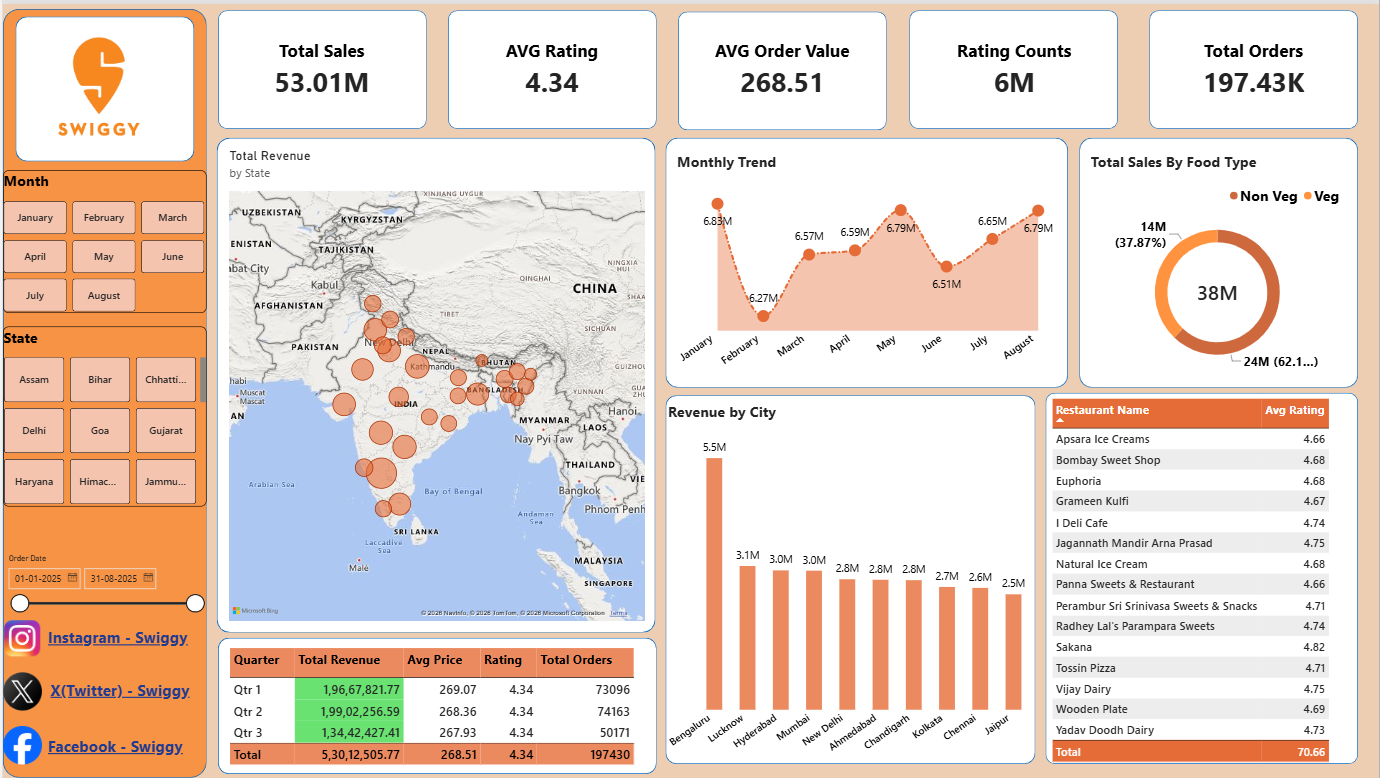

Layout of this report page (visuals, bound fields, positions):
{"tool":"powerbi","page":{"name":"Page 1","canvas":[1920,1080],"ordinal":0},"visuals":[{"type":"shape","box":[0,7,284.3,1072.7],"z":0},{"type":"shape","box":[300,8.7,291.3,165.7],"z":1000},{"type":"cardVisual","fields":{"Data":["Sum(Swiggy Data.Price (INR))"]},"box":[312.2,17.4,265.1,148.3],"z":2000},{"type":"shape","box":[620.9,8.7,291.3,165.7],"z":3000},{"type":"shape","box":[941.9,10.5,291.3,165.7],"z":4000},{"type":"shape","box":[1264.5,8.7,291.3,165.7],"z":5000},{"type":"cardVisual","fields":{"Data":["Avg(Swiggy Data.Rating)"]},"box":[636.6,17.4,259.9,148.3],"z":6000},{"type":"cardVisual","fields":{"Data":["Avg(Swiggy Data.Price (INR))"]},"box":[948.8,17.4,277.3,148.3],"z":7000},{"type":"shape","box":[1599.4,8.7,291.3,165.7],"z":8000},{"type":"cardVisual","fields":{"Data":["Sum(Swiggy Data.Rating Count)"]},"box":[1282,17.4,258.1,148.3],"z":9000},{"type":"cardVisual","fields":{"Data":["CountNonNull(Swiggy Data.Restaurant Name)"]},"box":[1606.4,17.4,277.3,148.3],"z":10000},{"type":"shape","box":[1501.7,186.6,389,348.8],"z":11000},{"type":"donutChart","title":"Total Sales By Food Type","fields":{"Category":["swiggy_file.Pure Veg"],"Y":["Sum(swiggy_file.Average Price)"]},"box":[1501.7,191.9,385.5,343.6],"z":12000},{"type":"shape","box":[924.4,186.6,561.6,348.8],"z":13000},{"type":"areaChart","title":"Monthly Trend","fields":{"Category":["Swiggy Data.Order Date.Variation.Date Hierarchy.Month"],"Y":["Sum(Swiggy Data.Price (INR))"]},"box":[924.4,191.9,561.6,343.6],"z":14000},{"type":"shape","box":[300,884.3,612.2,190.1],"z":15000},{"type":"tableEx","fields":{"Values":["Swiggy Data.Order Date.Variation.Date Hierarchy.Quarter","Sum(Swiggy Data.Price (INR))","Avg(Swiggy Data.Price (INR))","Avg(Swiggy Data.Rating)","Swiggy Data.Restaurant Name"]},"box":[300,884.3,596.5,195.3],"z":16000},{"type":"advancedSlicerVisual","fields":{"Values":["Swiggy Data.Order Date.Variation.Date Hierarchy.Month"]},"box":[0,232,284.3,198.8],"z":17000},{"type":"advancedSlicerVisual","fields":{"Values":["Swiggy Data.State"]},"box":[0,450,284.3,251.2],"z":18000},{"type":"shape","box":[298.3,186.6,612.2,690.7],"z":19000},{"type":"map","fields":{"Category":["Swiggy Data.State"],"Size":["Sum(Swiggy Data.Price (INR))"]},"box":[300,186.6,612.2,690.7],"z":20000},{"type":"slicer","fields":{"Values":["Swiggy Data.Order Date"]},"box":[0,767.4,284.3,109.9],"z":21000},{"type":"shape","box":[1454.7,542.4,436,518],"z":22000},{"type":"tableEx","fields":{"Values":["Top Resto.Restaurant Name","Sum(Top Resto.Avg Rating)"]},"box":[1458.1,545.9,432.6,523.3],"z":23000},{"type":"shape","box":[924.4,545.9,516.3,514.5],"z":24000},{"type":"columnChart","title":"Revenue by City","fields":{"Category":["Swiggy Data.City"],"Y":["Swiggy Data.city Analysis"]},"box":[927.9,549.4,512.8,514.5],"z":25000},{"type":"shape","box":[17.4,17.4,249.4,202.3],"z":26000},{"type":"image","box":[0,17.4,266.9,228.5],"z":27000},{"type":"image","box":[0,924.4,54.1,69.8],"z":28000},{"type":"image","box":[0,859.9,54.1,50.6],"z":29000},{"type":"image","box":[0,999.4,54.1,69.8],"z":30000},{"type":"textbox","box":[66.3,941.9,200.6,33.1],"z":31000},{"type":"textbox","box":[62.8,868.6,216.3,29.7],"z":32000},{"type":"textbox","box":[62.8,1020.4,195.3,40.1],"z":33000}]}

Visuals, with their boxes in screenshot pixels (x1, y1, x2, y2), scaled from the page's 1920x1080 canvas onto the 1380x778 screenshot:
shape: x1=0, y1=5, x2=204, y2=777
shape: x1=216, y1=6, x2=425, y2=126
cardVisual - Sum(Swiggy Data.Price (INR)): x1=224, y1=13, x2=415, y2=119
shape: x1=446, y1=6, x2=656, y2=126
shape: x1=677, y1=8, x2=886, y2=127
shape: x1=909, y1=6, x2=1118, y2=126
cardVisual - Avg(Swiggy Data.Rating): x1=458, y1=13, x2=644, y2=119
cardVisual - Avg(Swiggy Data.Price (INR)): x1=682, y1=13, x2=881, y2=119
shape: x1=1150, y1=6, x2=1359, y2=126
cardVisual - Sum(Swiggy Data.Rating Count): x1=921, y1=13, x2=1107, y2=119
cardVisual - CountNonNull(Swiggy Data.Restaurant Name): x1=1155, y1=13, x2=1354, y2=119
shape: x1=1079, y1=134, x2=1359, y2=386
"Total Sales By Food Type" donutChart: x1=1079, y1=138, x2=1356, y2=386
shape: x1=664, y1=134, x2=1068, y2=386
"Monthly Trend" areaChart: x1=664, y1=138, x2=1068, y2=386
shape: x1=216, y1=637, x2=656, y2=774
tableEx - Swiggy Data.Order Date.Variation.Date Hierarchy.Quarter x Sum(Swiggy Data.Price (INR)): x1=216, y1=637, x2=644, y2=777
advancedSlicerVisual - Swiggy Data.Order Date.Variation.Date Hierarchy.Month: x1=0, y1=167, x2=204, y2=310
advancedSlicerVisual - Swiggy Data.State: x1=0, y1=324, x2=204, y2=505
shape: x1=214, y1=134, x2=654, y2=632
map - Swiggy Data.State x Sum(Swiggy Data.Price (INR)): x1=216, y1=134, x2=656, y2=632
slicer - Swiggy Data.Order Date: x1=0, y1=553, x2=204, y2=632
shape: x1=1046, y1=391, x2=1359, y2=764
tableEx - Top Resto.Restaurant Name x Sum(Top Resto.Avg Rating): x1=1048, y1=393, x2=1359, y2=770
shape: x1=664, y1=393, x2=1036, y2=764
"Revenue by City" columnChart: x1=667, y1=396, x2=1036, y2=766
shape: x1=13, y1=13, x2=192, y2=158
image: x1=0, y1=13, x2=192, y2=177
image: x1=0, y1=666, x2=39, y2=716
image: x1=0, y1=619, x2=39, y2=656
image: x1=0, y1=720, x2=39, y2=770
textbox: x1=48, y1=679, x2=192, y2=702
textbox: x1=45, y1=626, x2=201, y2=647
textbox: x1=45, y1=735, x2=186, y2=764
